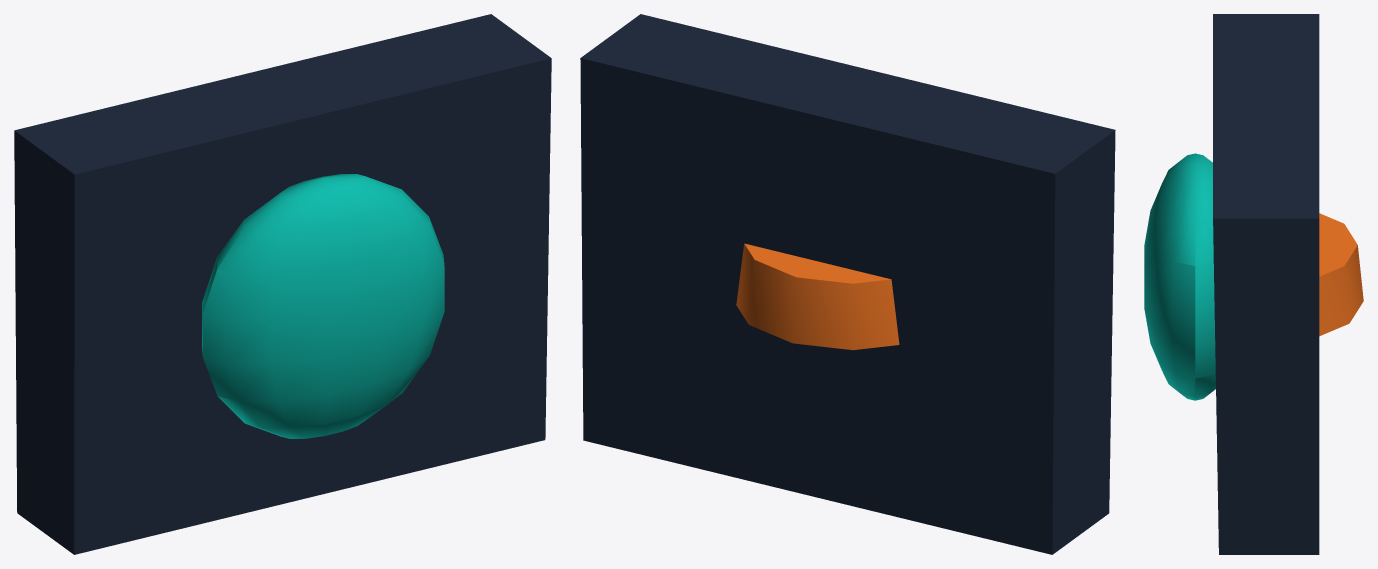
The model's file is Core.glb.
The picture shows the model from 3 angles, left to right: view 1: azimuth 30°, elevation 25°; view 2: azimuth 150°, elevation 25°; view 3: azimuth 270°, elevation 25°; orthographic projection. The views are drawn at different scales.
Parts seen in each view (by area): view 1: reactor_housing, reactor_gem; view 2: reactor_housing, reactor_ring; view 3: reactor_housing, reactor_gem, reactor_ring.
Part boxes in pixels (x1=…): reactor_housing: x1=14, y1=14, x2=551, y2=554; reactor_gem: x1=202, y1=174, x2=444, y2=438; reactor_housing: x1=580, y1=14, x2=1115, y2=554; reactor_ring: x1=736, y1=243, x2=899, y2=350; reactor_housing: x1=1213, y1=14, x2=1319, y2=554; reactor_gem: x1=1144, y1=153, x2=1215, y2=400; reactor_ring: x1=1319, y1=213, x2=1363, y2=336.
Size of the model in its own units: 1.64 by 1.26 by 0.7428.
